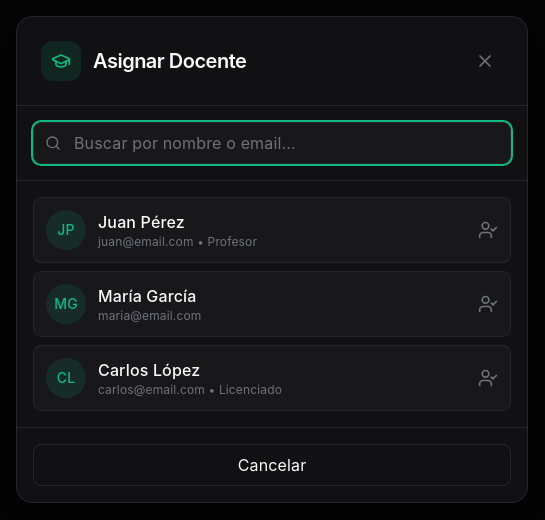
Test case: AsignarDocenteModal › Búsqueda › filtra docentes por nombre
The width and height of the screenshot is (545, 520).
Expected: the text "Juan Pérez" is shown, [98,212,185,232]
Type "María" into the field with placeholder "Buscar por nombre o email..." at coordinates (272, 142), box [33,122,511,164]
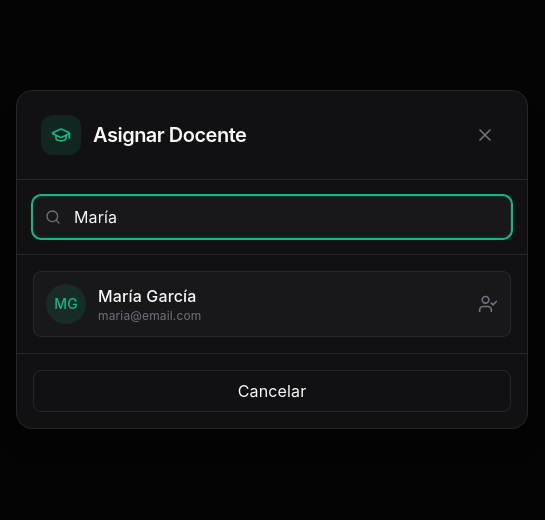
Expected: the text "María García" is shown, [98,284,202,308]
Now the button "Juan Pérez" is gone
Now the button "Carlos López" is gone
